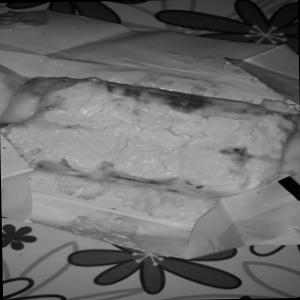butter: (1, 43, 296, 262)
